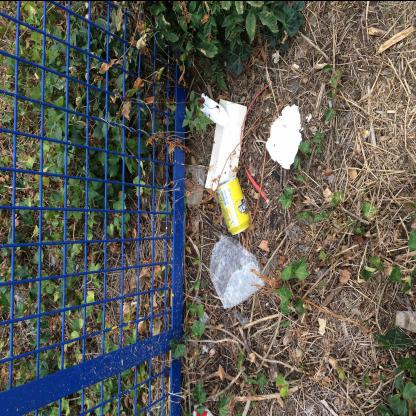diger: (200, 92, 230, 126)
kagit: (185, 165, 205, 206)
karton: (205, 98, 247, 190)
metal: (216, 174, 250, 236)
plastik: (209, 235, 264, 309)
